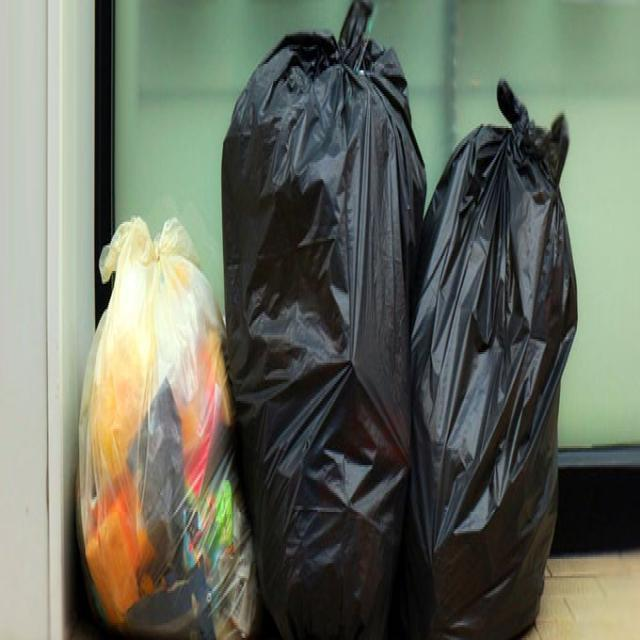Vinyl: (218, 0, 428, 640), (408, 74, 579, 640)
